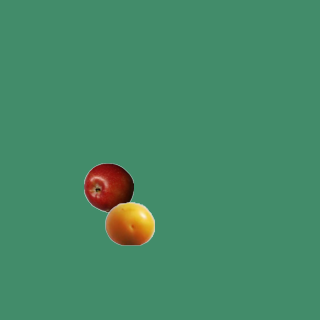Apple Braeburn: (83, 162, 133, 212)
Cherry Wax Yellow: (104, 198, 154, 248)
